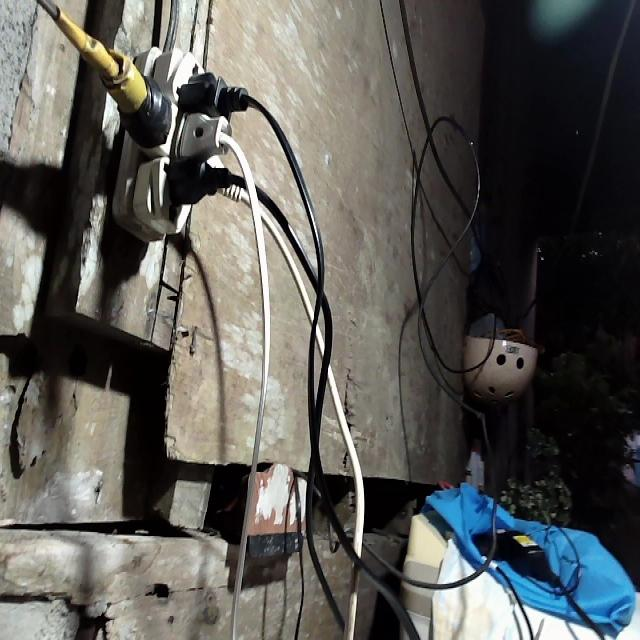-: (106, 44, 244, 245)
